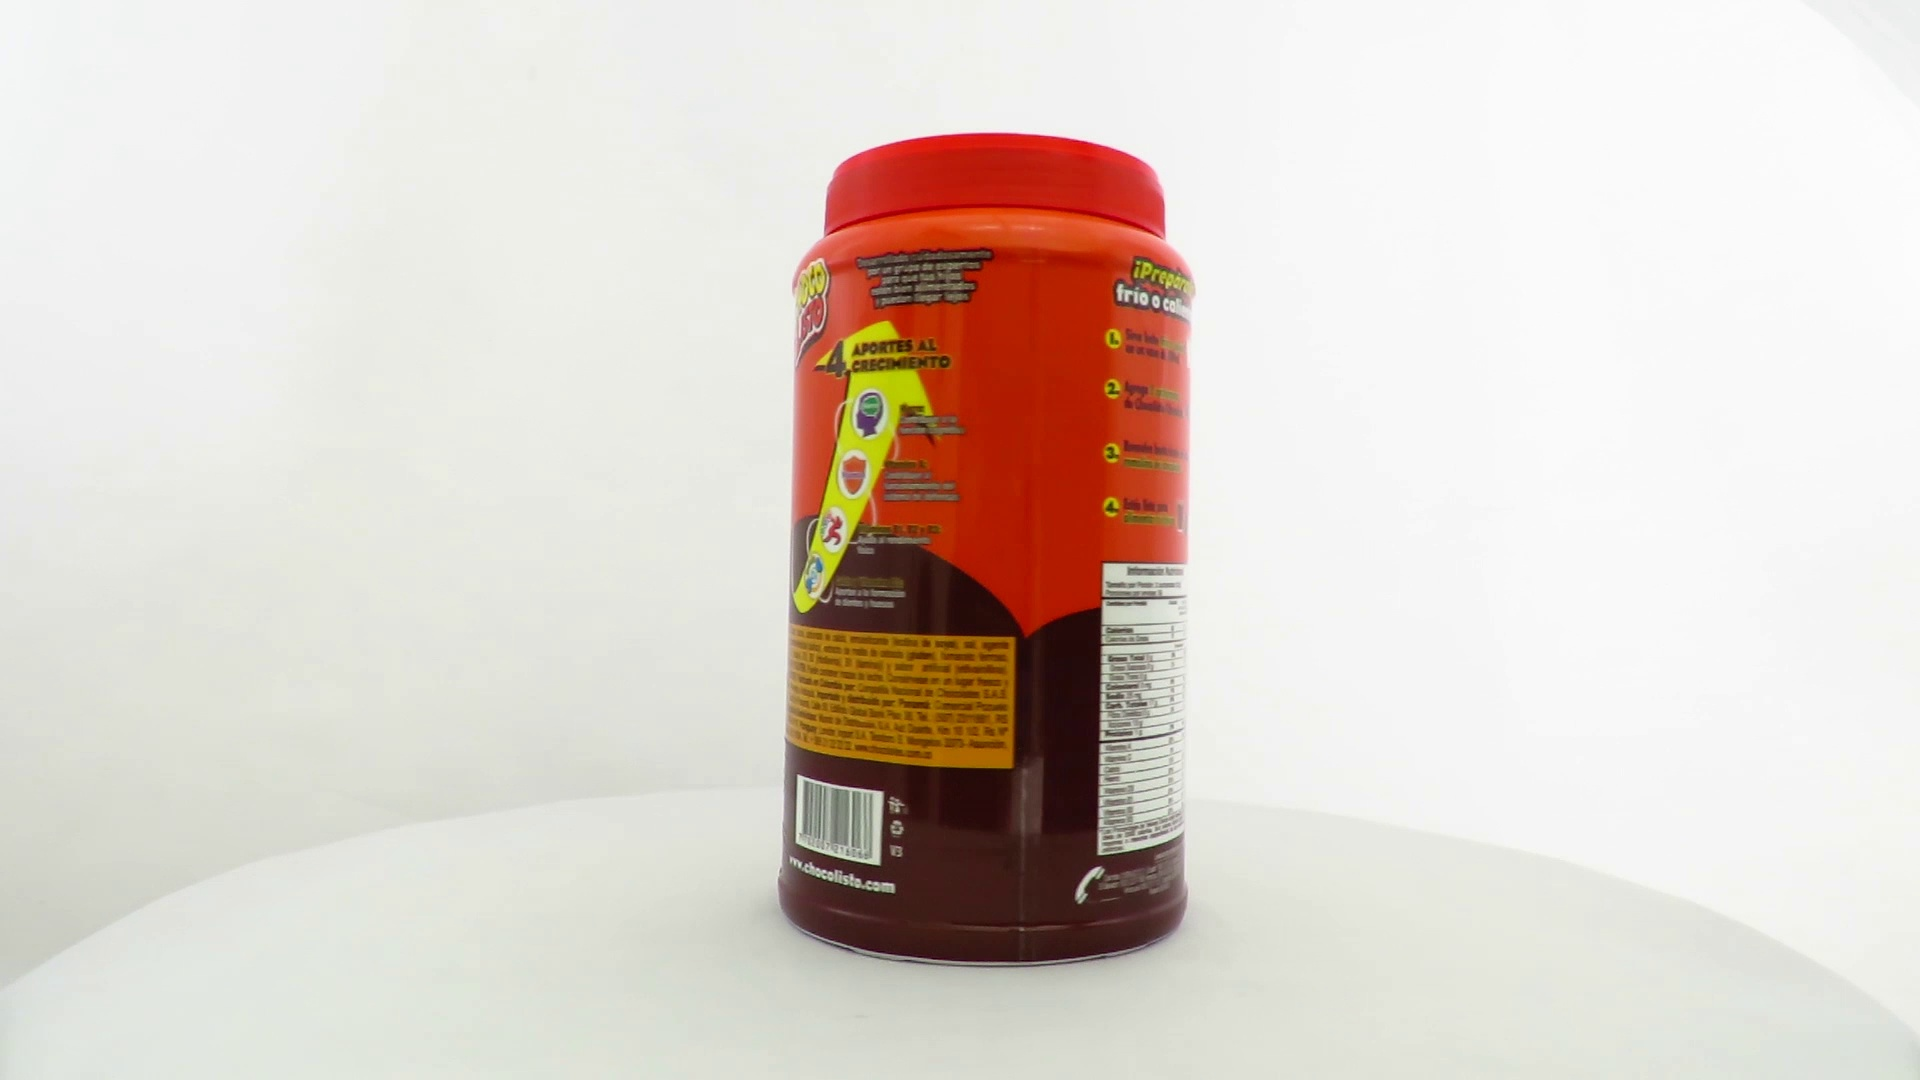COL0170103TRR00100: (771, 127, 1203, 975)
